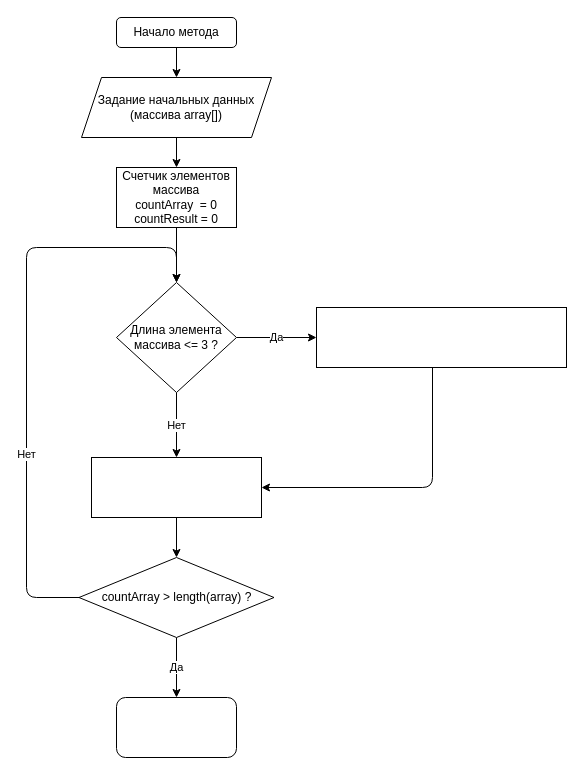
Image size: 584x775. Some labels were removed from this diagram. The shapes that lost their labels are listed below. From the top down, each one's centre as x and y in pixels, then its label:
At pixel 441 337: "result[countResult] = array[countArray] countResult = countResult + 1".
At pixel 176 487: "countArray = countArray + 1".
At pixel 176 727: "Конец метода".
